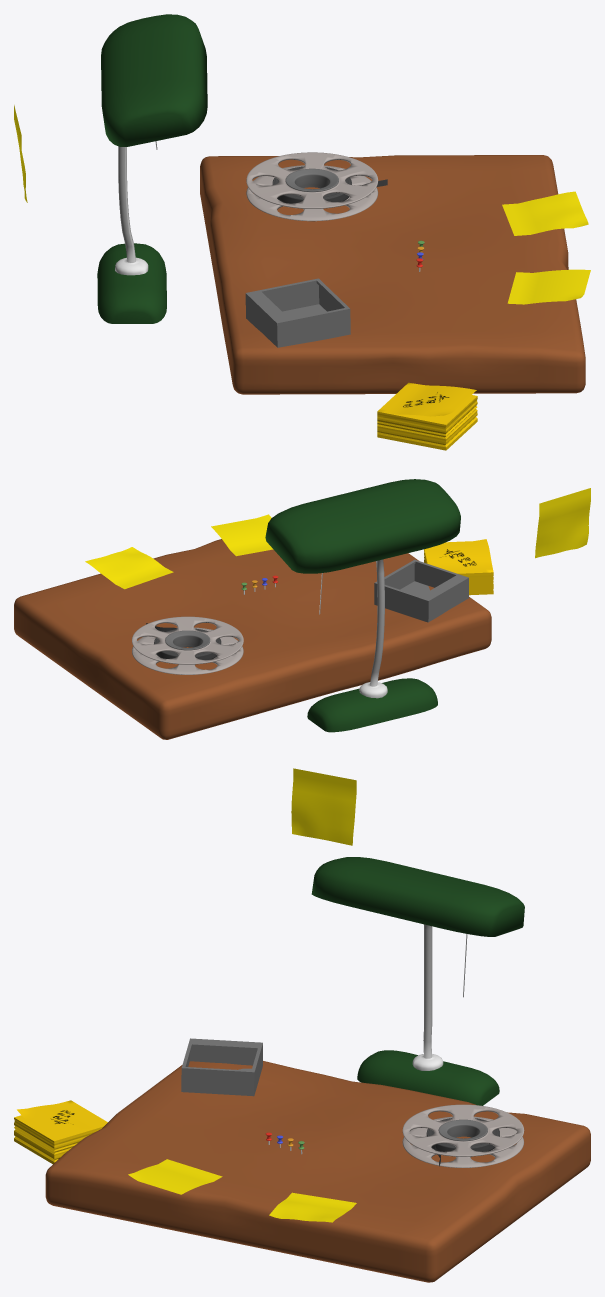
The model's file is banc_de_montage.fbx.
3 renders of one model, top to bottom at view 1: azimuth 30°, elevation 25°; view 2: azimuth 150°, elevation 25°; view 3: azimuth 270°, elevation 25°, orthographic. The views are drawn at different scales.
Parts seen in each view (by area): view 1: banc_de_montage, lampe, bobine, interrupteur, PostIt_bloc, postIt_Erase, postIt_Repair; view 2: banc_de_montage, lampe, bobine, interrupteur, PostIt_watch, PostIt_bloc, postIt_Erase, postIt_Repair; view 3: banc_de_montage, lampe, bobine, PostIt_watch, interrupteur, PostIt_bloc, postIt_Repair, postIt_Erase.
Boxes of the visible parts, <box> form: banc_de_montage: <box>200,155,585,394</box>; lampe: <box>97,14,207,323</box>; bobine: <box>246,152,387,221</box>; interrupteur: <box>245,278,350,347</box>; PostIt_bloc: <box>377,382,477,450</box>; postIt_Erase: <box>502,191,588,235</box>; postIt_Repair: <box>507,269,590,304</box>; banc_de_montage: <box>14,539,491,739</box>; lampe: <box>265,479,460,732</box>; bobine: <box>132,616,243,674</box>; interrupteur: <box>374,559,468,622</box>; PostIt_watch: <box>535,488,590,558</box>; PostIt_bloc: <box>424,539,493,595</box>; postIt_Erase: <box>85,547,173,589</box>; postIt_Repair: <box>211,514,273,556</box>; banc_de_montage: <box>45,1061,590,1282</box>; lampe: <box>311,857,524,1105</box>; bobine: <box>402,1104,524,1167</box>; PostIt_watch: <box>291,768,356,845</box>; interrupteur: <box>181,1038,262,1096</box>; PostIt_bloc: <box>14,1100,107,1163</box>; postIt_Repair: <box>128,1159,222,1194</box>; postIt_Erase: <box>269,1192,356,1222</box>.
Size of the model in its own units: 295 by 126 by 265.
